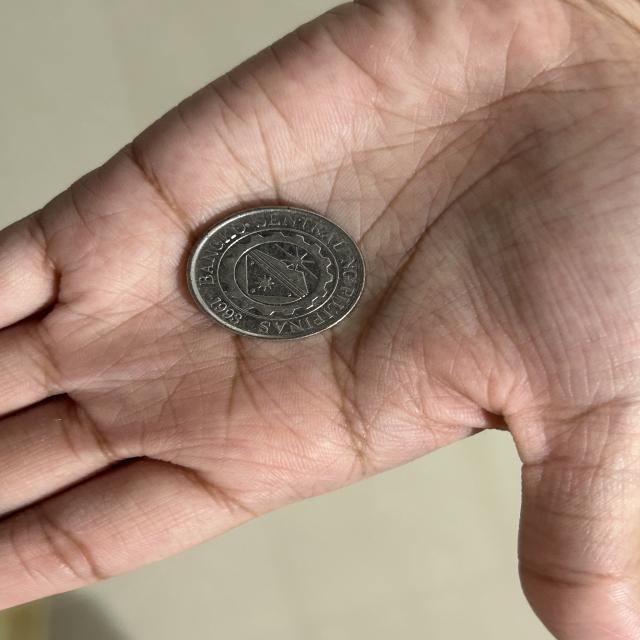1_Old_Back: (210, 224, 338, 321)
